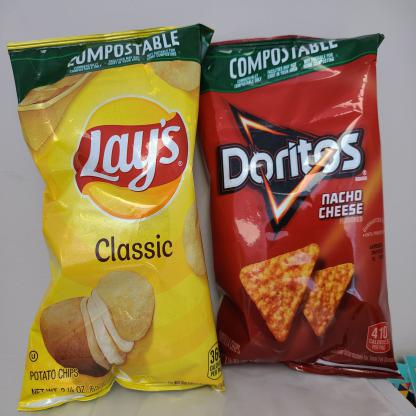potatochip: (7, 18, 227, 416), (194, 33, 404, 387)
